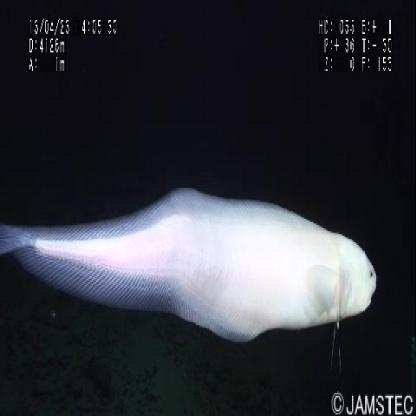Bio: (1, 185, 380, 347)
